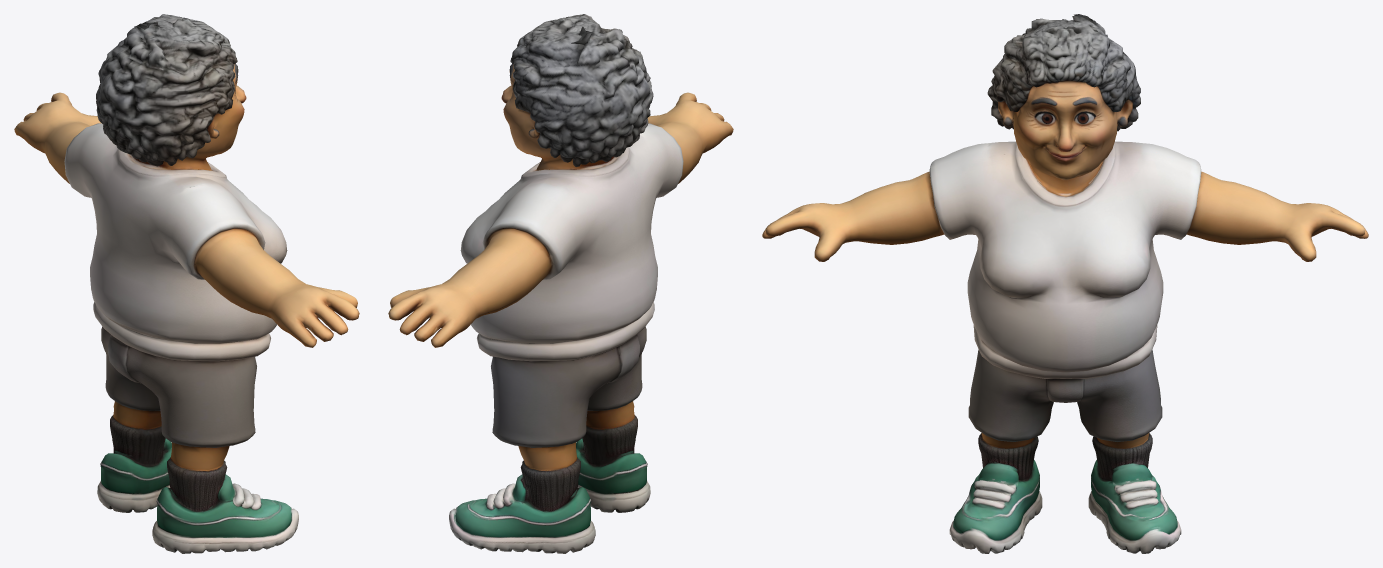
3 views of the same model, side by side, from view 1: azimuth 30°, elevation 25°; view 2: azimuth 150°, elevation 25°; view 3: azimuth 270°, elevation 25° (orthographic).
Parts seen in each view (by area): view 1: tripo_node_6623c7e7; view 2: tripo_node_6623c7e7; view 3: tripo_node_6623c7e7.
Boxes of the visible parts, left/top/right/bottom form: tripo_node_6623c7e7: left=14, top=14, right=359, bottom=553; tripo_node_6623c7e7: left=388, top=14, right=733, bottom=553; tripo_node_6623c7e7: left=762, top=14, right=1368, bottom=553.
Bounding box in the file's own units: 0.3131 × 0.9041 × 1.
1 material, 1 textured.
